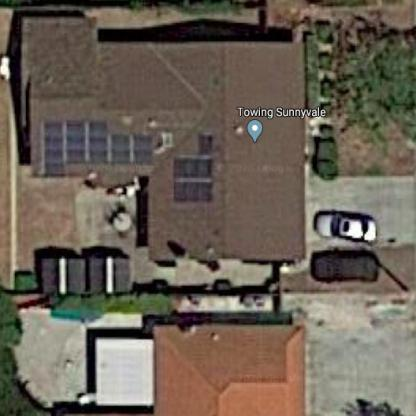car: (313, 202, 383, 246), (307, 247, 383, 285)
solar_panel: (37, 111, 158, 179), (169, 135, 217, 213)
